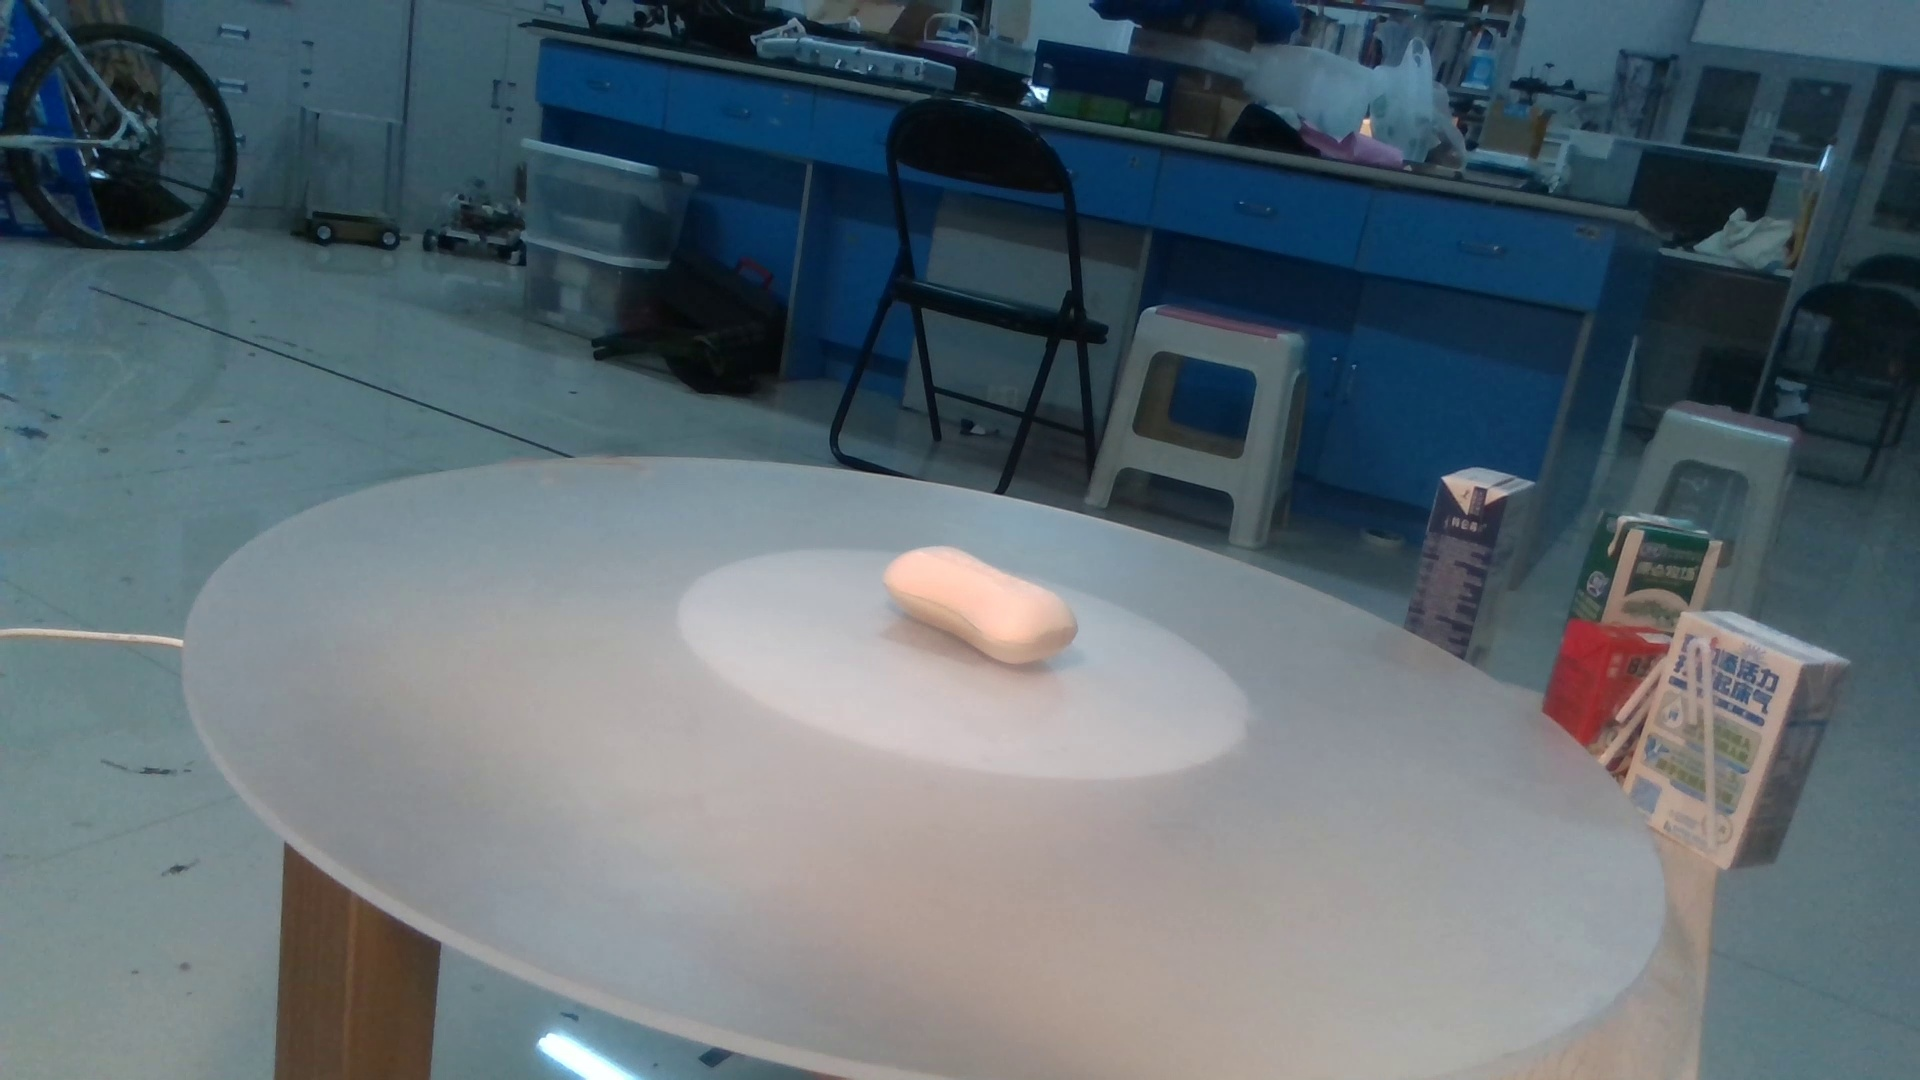CA003_1: (872, 521, 1080, 711)
